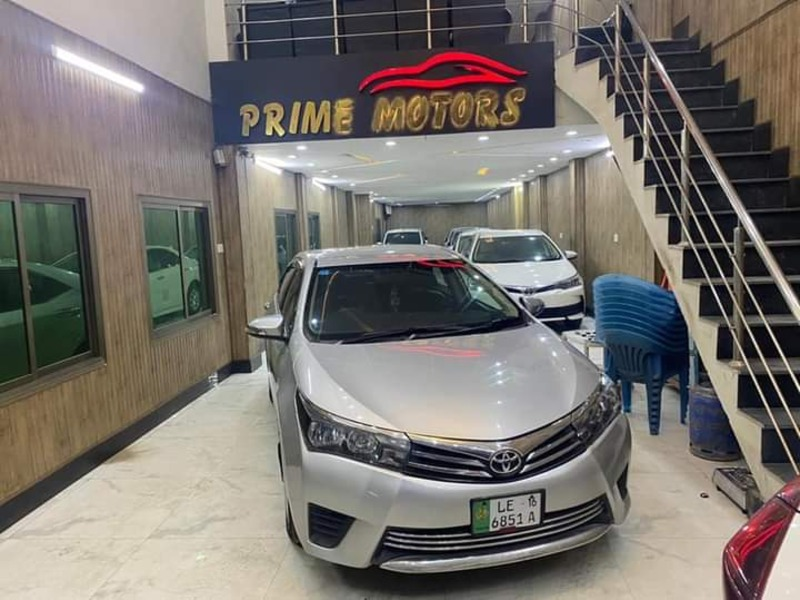License Plate: (469, 489, 548, 539)
